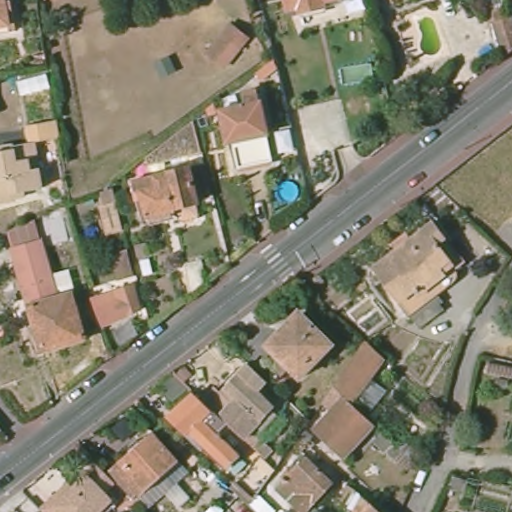pool: (275, 180, 305, 206), (81, 221, 106, 243)
